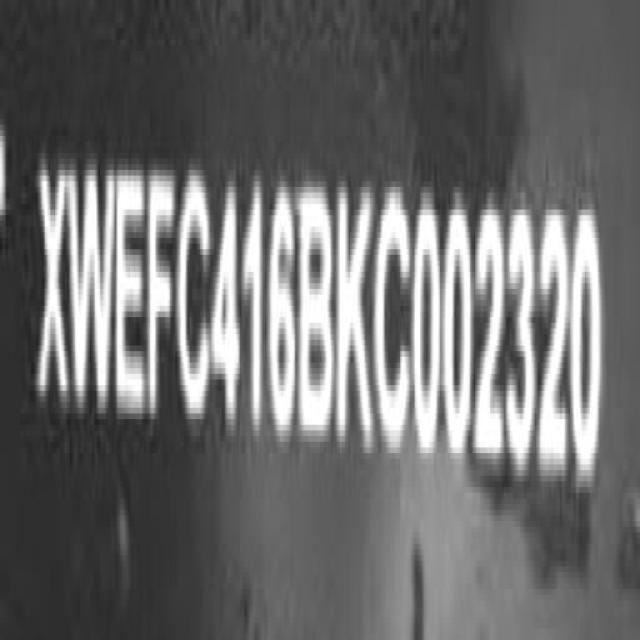0: (442, 191, 476, 468), (570, 214, 604, 478), (412, 186, 444, 465)
1: (245, 172, 268, 442)
2: (539, 212, 572, 480), (474, 200, 506, 472)
3: (506, 203, 537, 479)
4: (210, 170, 244, 442)
6: (266, 172, 300, 446)
B: (299, 170, 337, 447)
C: (376, 181, 416, 464), (177, 160, 216, 434)
E: (114, 159, 150, 428)
F: (143, 160, 180, 434)
K: (333, 175, 375, 460)
W: (66, 150, 118, 425)
X: (36, 146, 72, 423)
